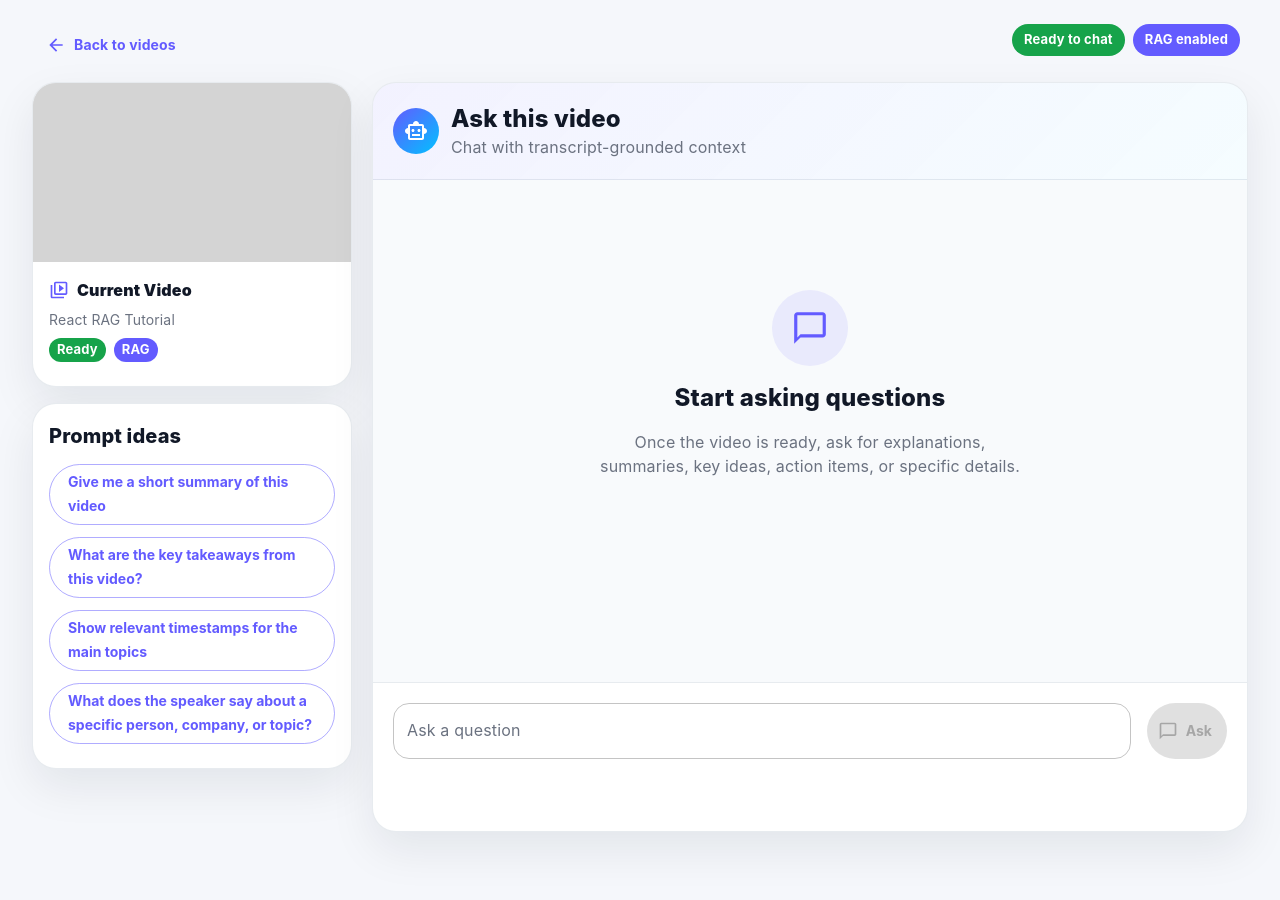
Scenario: VideoChatPage › sends a question and renders returned answer
Check: the heading "Start asking questions" is shown, box [675, 382, 945, 414]
Type "Summarize this video" into the field labelled "Ask a question" at (762, 731), box [393, 703, 1130, 759]
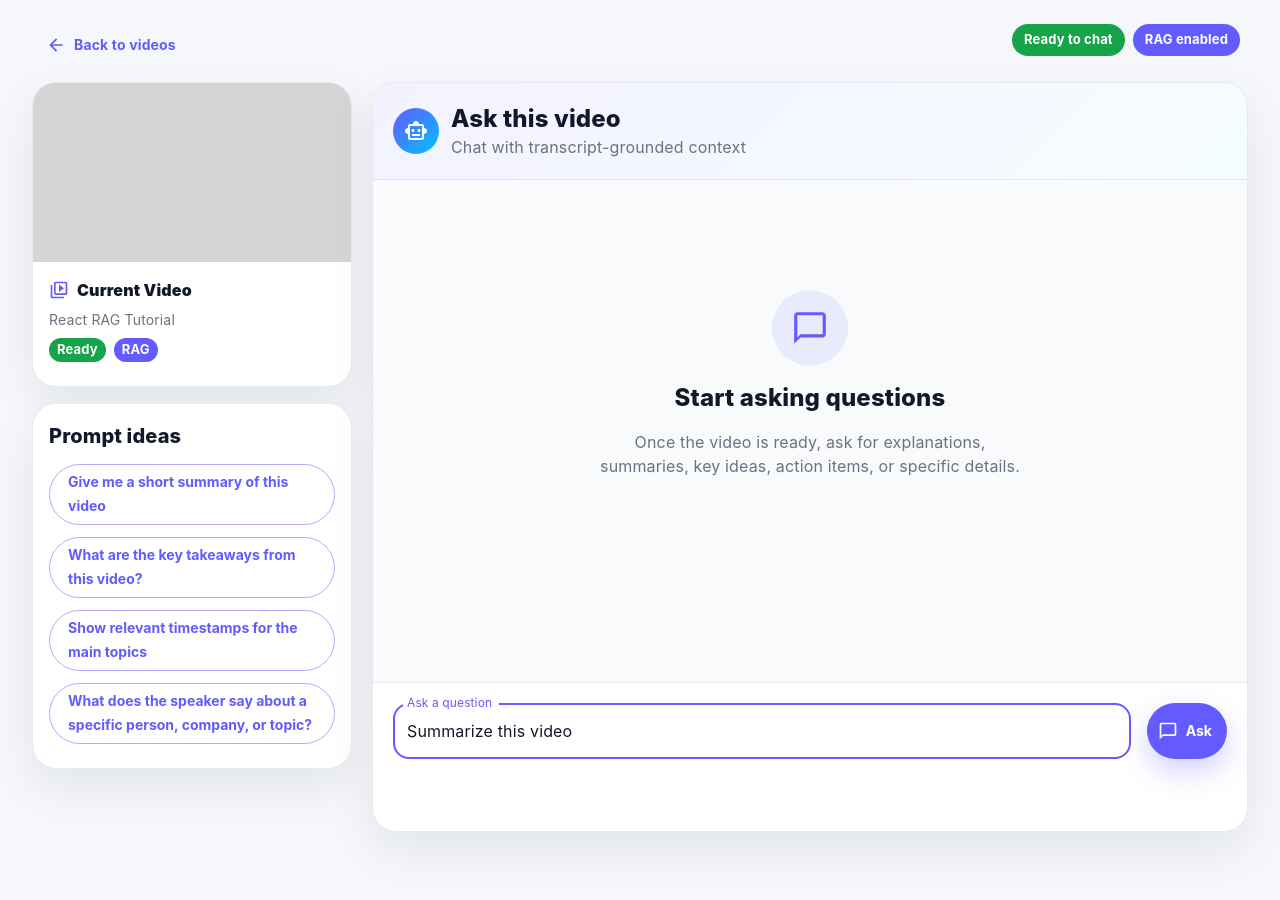
Click the button "Ask" at (1187, 731), box [1146, 703, 1227, 759]
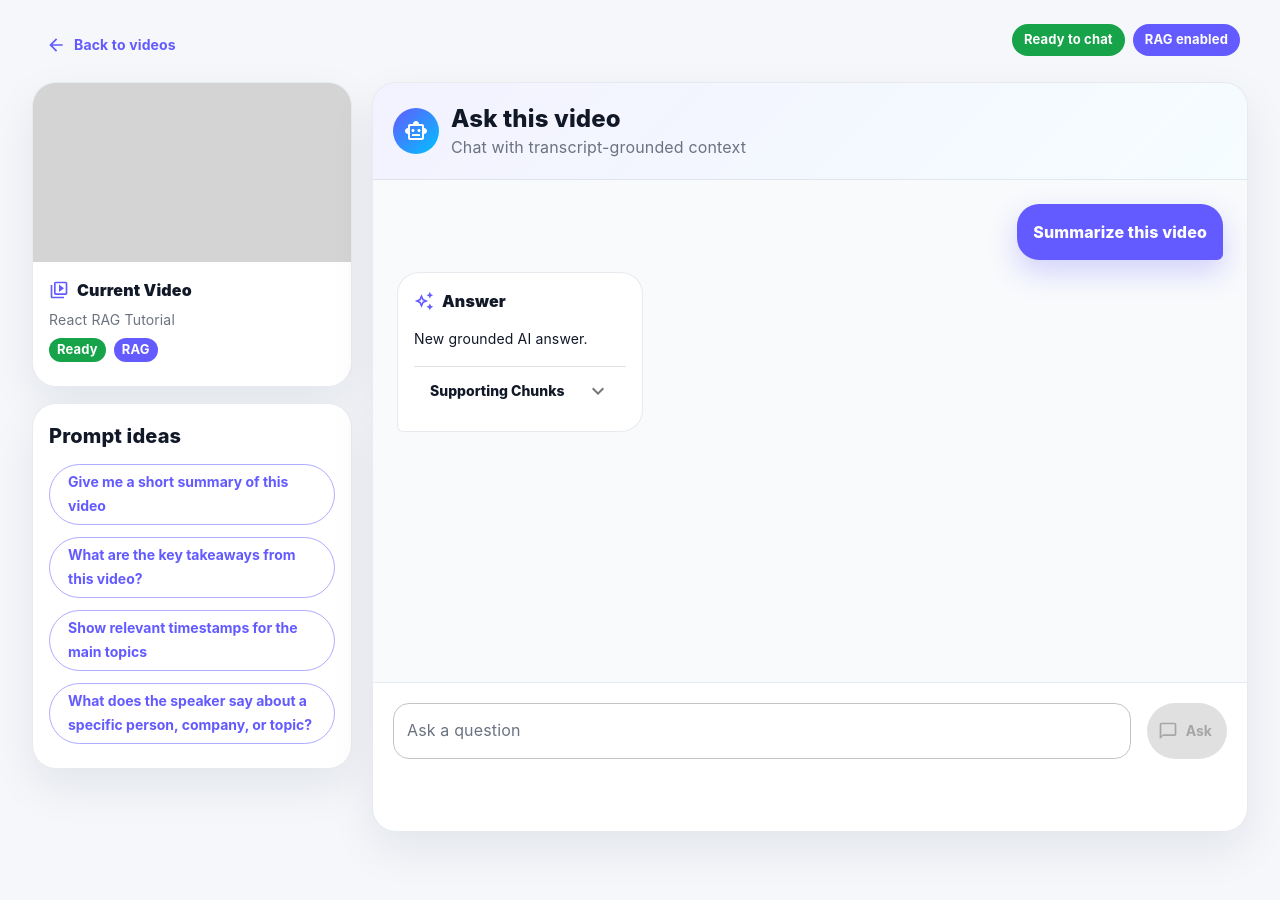
Check: the text "Summarize this video" is shown, box [1033, 220, 1207, 244]
Check: the text "New grounded AI answer." is shown, box [414, 330, 588, 347]
